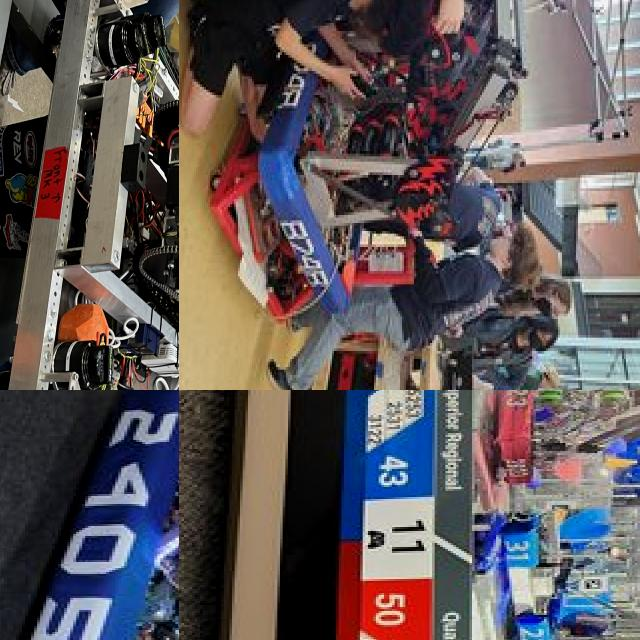FRC-Robots: (237, 38, 527, 318), (0, 0, 179, 390), (15, 390, 179, 640), (481, 390, 640, 503), (484, 521, 634, 608)
